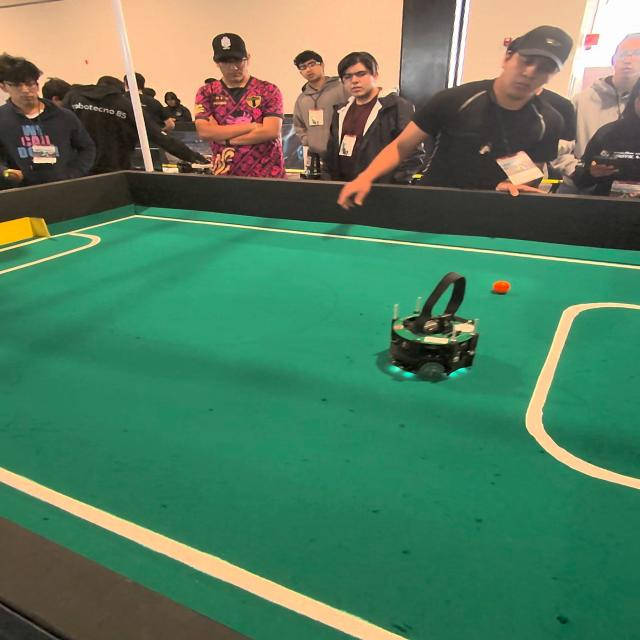Robot: (382, 266, 482, 391)
pelota: (488, 277, 514, 297)
